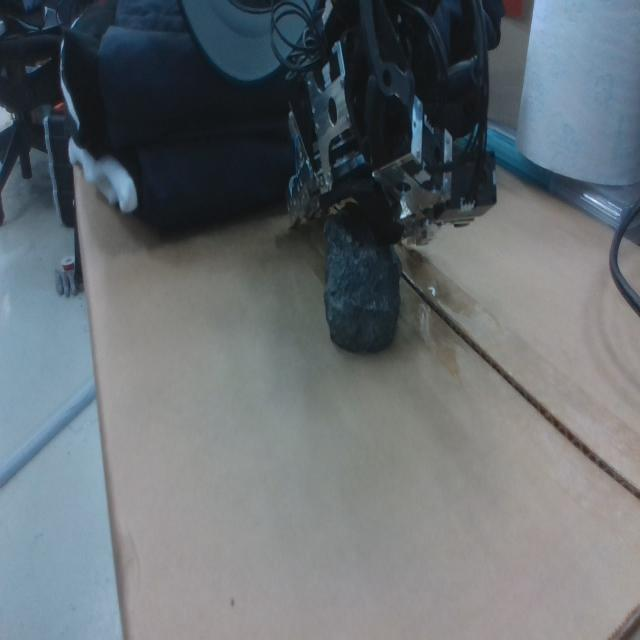stone: (322, 213, 403, 356)
